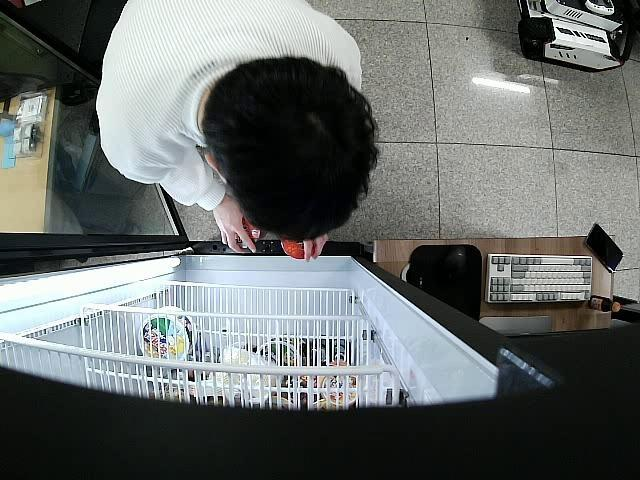02_shinRamen_S: (229, 215, 265, 250), (278, 234, 316, 260)
